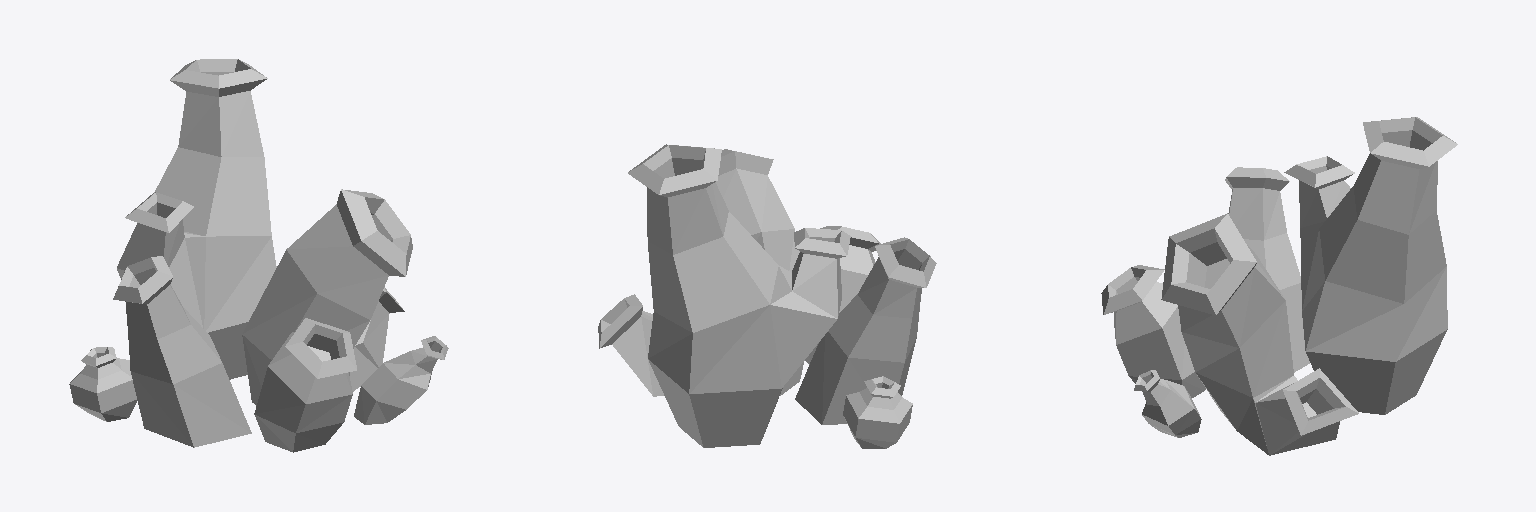
File: tubecluster2.obj
The picture shows the model from 3 angles: view 1: azimuth 30°, elevation 25°; view 2: azimuth 150°, elevation 25°; view 3: azimuth 270°, elevation 25°; orthographic projection.
Size of the model in its own units: 1.87 by 1.58 by 1.81.